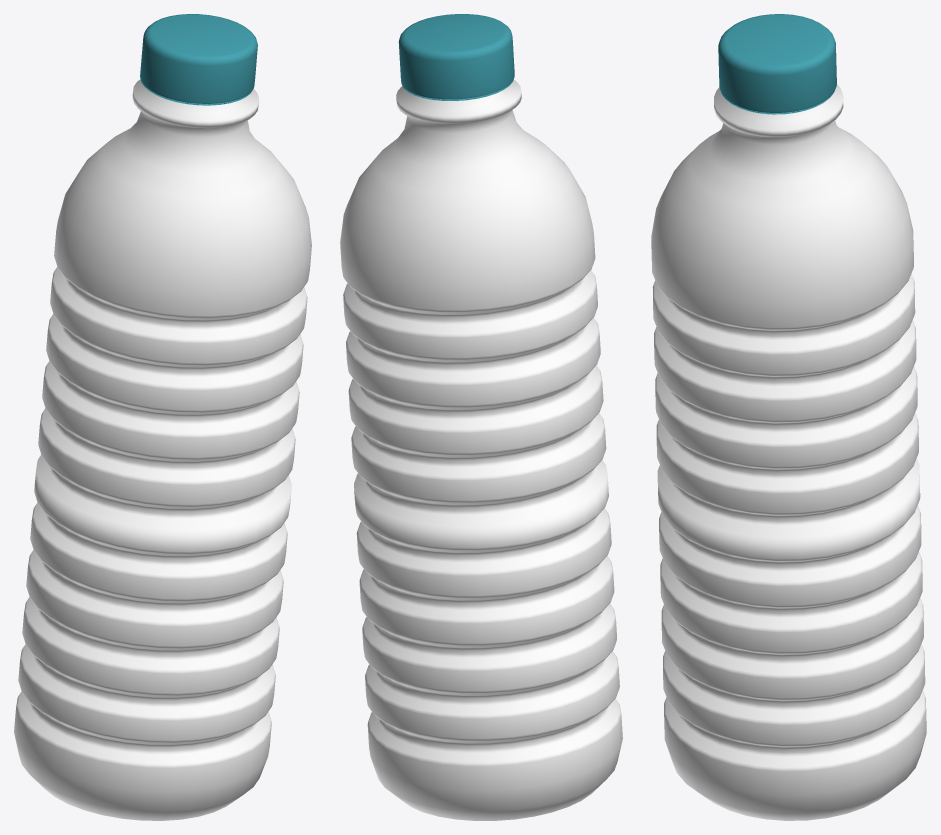
Rendered from plastic_bottle.glb.
3 renders of one model, left to right at view 1: azimuth 30°, elevation 25°; view 2: azimuth 150°, elevation 25°; view 3: azimuth 270°, elevation 25°, orthographic. The views are drawn at different scales.
Parts seen in each view (by area): view 1: Object_2, Object_3; view 2: Object_2, Object_3; view 3: Object_2, Object_3.
Boxes of the visible parts, <box> form: Object_2: <box>14,79,311,820</box>; Object_3: <box>140,14,257,105</box>; Object_2: <box>340,80,622,820</box>; Object_3: <box>398,14,514,100</box>; Object_2: <box>651,84,926,820</box>; Object_3: <box>718,14,836,114</box>.
Bounding box in the file's own units: 10.39 × 29.15 × 9.43.
